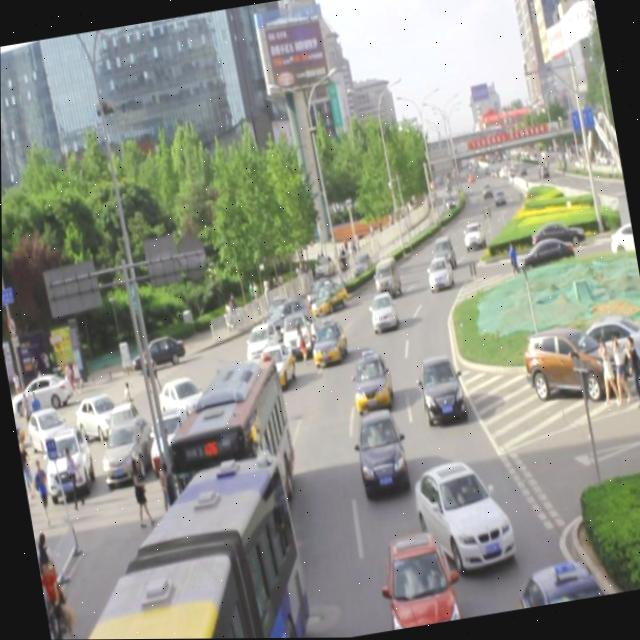car: (406, 452, 514, 575), (378, 525, 457, 631), (351, 405, 407, 491), (513, 558, 597, 610), (416, 354, 467, 428), (346, 349, 393, 414), (250, 338, 297, 394), (257, 297, 314, 341), (305, 312, 350, 367), (214, 360, 257, 417), (277, 306, 315, 358), (242, 320, 282, 368), (307, 273, 351, 316), (366, 291, 398, 334), (422, 254, 454, 293), (426, 235, 456, 271)
truck: (369, 256, 401, 299)
van: (27, 455, 314, 640), (144, 352, 301, 521)
